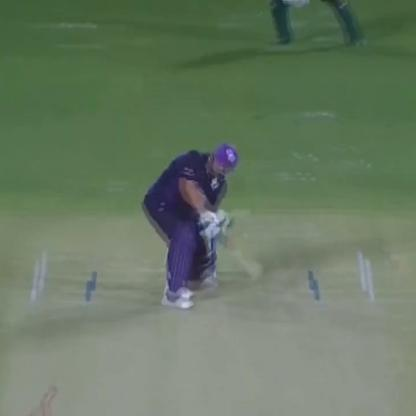ball: (177, 289, 195, 304)
bat: (204, 208, 272, 280)
pitch: (5, 254, 410, 415)
